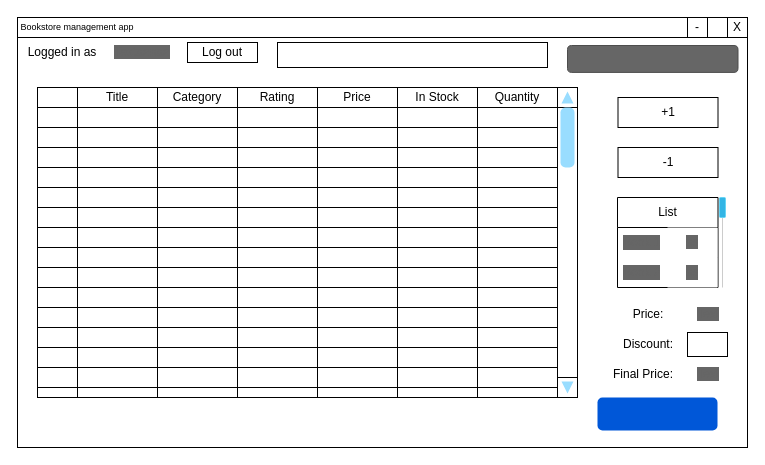
Image size: 765x465. Some labels were removed from this diagram. The centre of each missing label's shape, as x and y in pixels:
"Finalize" goes at point (657, 413).
"Id" goes at point (57, 97).
"Mode: Cash Register" goes at point (652, 58).
"Search" goes at point (412, 55).
"Text %" goes at point (707, 344).
